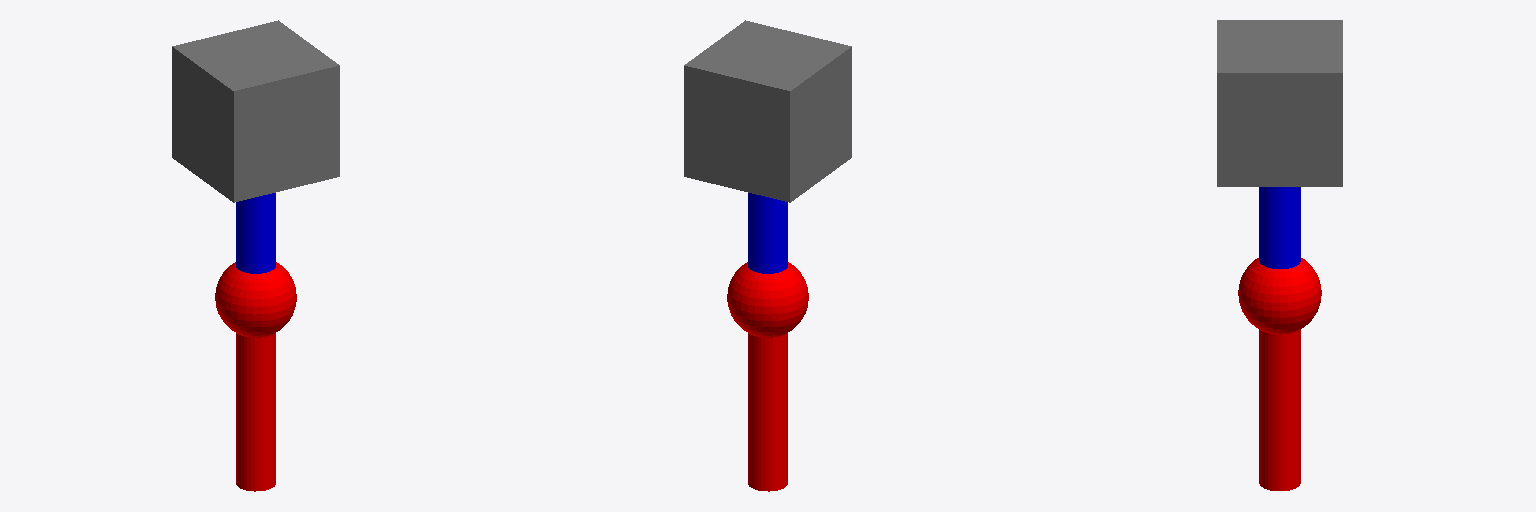
The robot description file, URDF, robot "double_pendulum":
<?xml version="1.0"?>
<robot name="double_pendulum" xmlns:xacro="http://ros.org/wiki/xacro">

  <!-- Base link: a cube -->
  <link name="base_link">
    <visual>
      <geometry>
        <box size="0.03 0.03 0.03"/>
      </geometry>
      <origin xyz="0 0 0" rpy="0 0 0"/>
      <material name="gray">
        <color rgba="0.5 0.5 0.5 0.5"/>
      </material>
    </visual>
  </link>

  <!-- First joint -->
  <joint name="joint1" type="revolute">
    <parent link="base_link"/>
    <child link="joint1_sphere"/>
    <origin xyz="0 0 0" rpy="0 0 0"/>
    <axis xyz="1 0 0"/>
    <limit lower="-3.14" upper="3.14" effort="0.15" velocity="25"/>
  </joint>

  <!-- First joint sphere -->
  <link name="joint1_sphere">
    <visual>
      <geometry>
        <sphere radius="0.01"/>
      </geometry>
      <origin xyz="0 0 0" rpy="0 0 0"/>
      <material name="blue">
        <color rgba="0 0 1 1"/>
      </material>
    </visual>
  </link>

  <!-- First fixed joint -->
  <joint name="joint1_link" type="fixed">
    <parent link="joint1_sphere"/>
    <child link="link1"/>
    <origin xyz="0 0 0" rpy="0 0 0"/>
  </joint>

  <!-- First pendulum link -->
  <link name="link1">
    <visual>
      <geometry>
        <cylinder length="0.05" radius="0.005"/>
      </geometry>
      <origin xyz="0 0 -0.025" rpy="0 0 0"/>
      <material name="blue">
        <color rgba="0 0 1 0.5"/>
      </material>
    </visual>
  </link>

  <!-- Second joint -->
  <joint name="joint2" type="revolute">
    <parent link="link1"/>
    <child link="joint2_sphere"/>
    <origin xyz="0 0 -0.05" rpy="0 0 0"/>
    <axis xyz="1 0 0"/>
    <limit lower="-3.14" upper="3.14" effort="0.15" velocity="35"/>
  </joint>

  <!-- Second joint sphere -->
  <link name="joint2_sphere">
    <visual>
      <geometry>
        <sphere radius="0.01"/>
      </geometry>
      <material name="red">
        <color rgba="1 0 0 1"/>
      </material>
    </visual>
  </link>

  <!-- Second fixed joint -->
  <joint name="joint2_link" type="fixed">
    <parent link="joint2_sphere"/>
    <child link="link2"/>
    <origin xyz="0 0 0" rpy="0 0 0"/>
  </joint>

  <!-- Second pendulum link -->
  <link name="link2">
    <visual>
      <geometry>
        <cylinder length="0.05" radius="0.005"/>
      </geometry>
      <origin xyz="0 0 -0.025" rpy="0 0 0"/>
      <material name="red">
        <color rgba="1 0 0 0.5"/>
      </material>
    </visual>
  </link>

</robot>

--- Render facts (derived) ---
The picture shows the robot from 3 angles, left to right: view 1: azimuth 30°, elevation 25°; view 2: azimuth 150°, elevation 25°; view 3: azimuth 270°, elevation 25°; orthographic projection.
Robot: double_pendulum — 5 links, 4 joints (2 revolute, 2 fixed); root link base_link; default pose: all joints at 0.
Links seen in each view (by area): view 1: base_link, link2, joint2_sphere, link1; view 2: base_link, link2, joint2_sphere, link1; view 3: base_link, link2, joint2_sphere, link1.
Boxes of the visible links, left/top/right/bottom form: base_link: left=172, top=20, right=339, bottom=202; link2: left=236, top=333, right=275, bottom=491; joint2_sphere: left=215, top=262, right=296, bottom=337; link1: left=236, top=193, right=275, bottom=273; base_link: left=684, top=20, right=851, bottom=202; link2: left=748, top=333, right=787, bottom=491; joint2_sphere: left=727, top=262, right=808, bottom=337; link1: left=748, top=193, right=787, bottom=273; base_link: left=1217, top=20, right=1342, bottom=186; link2: left=1259, top=329, right=1300, bottom=490; joint2_sphere: left=1238, top=258, right=1321, bottom=334; link1: left=1259, top=187, right=1300, bottom=268.
Bounding box of the posed robot: 0.03 × 0.03 × 0.115 m (x, y, z).
Geometry: primitives only (box / cylinder / sphere), no mesh files.
